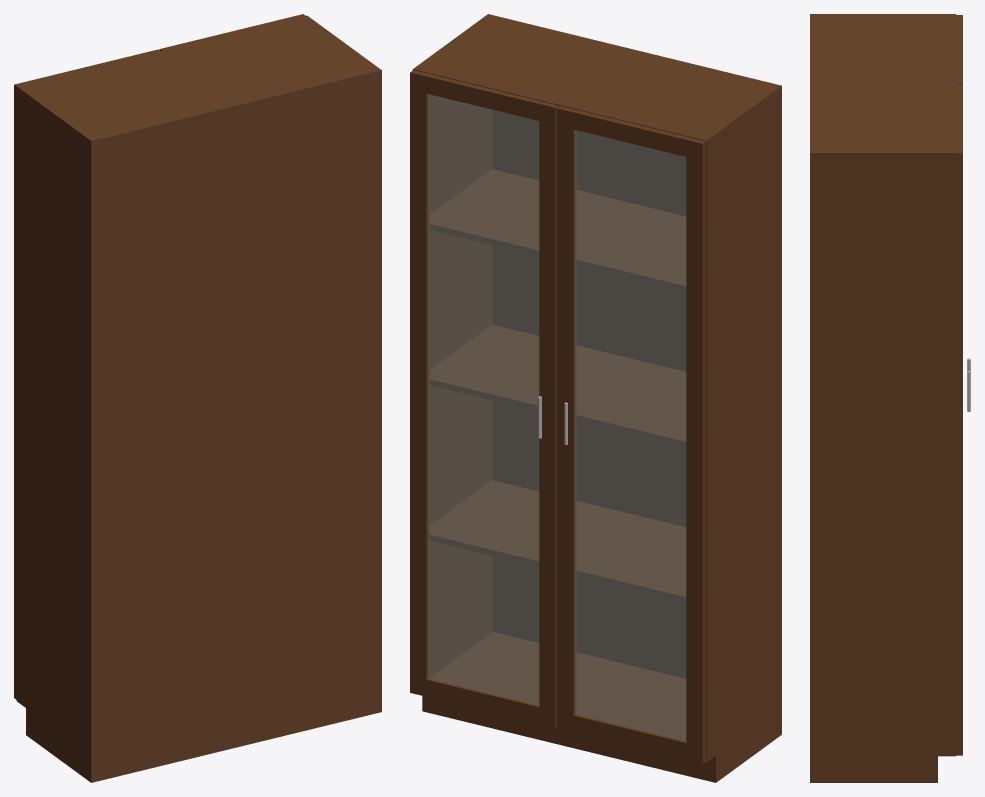
File: furniture.storage.display_cabinet.glb
The picture shows the model from 3 angles, left to right: view 1: azimuth 30°, elevation 25°; view 2: azimuth 150°, elevation 25°; view 3: azimuth 270°, elevation 25°; orthographic projection. The views are drawn at different scales.
Visible parts, largest first — view 1: main__hardwood; view 2: main__hardwood, main__glass; view 3: main__hardwood.
Boxes of the visible parts, x1,y1,x2,y2 form: main__hardwood: (14, 14, 381, 782); main__hardwood: (410, 14, 781, 782); main__glass: (428, 94, 685, 741); main__hardwood: (810, 14, 962, 782).
Bounding box in the file's own units: 0.9 × 1.9 × 0.44.
